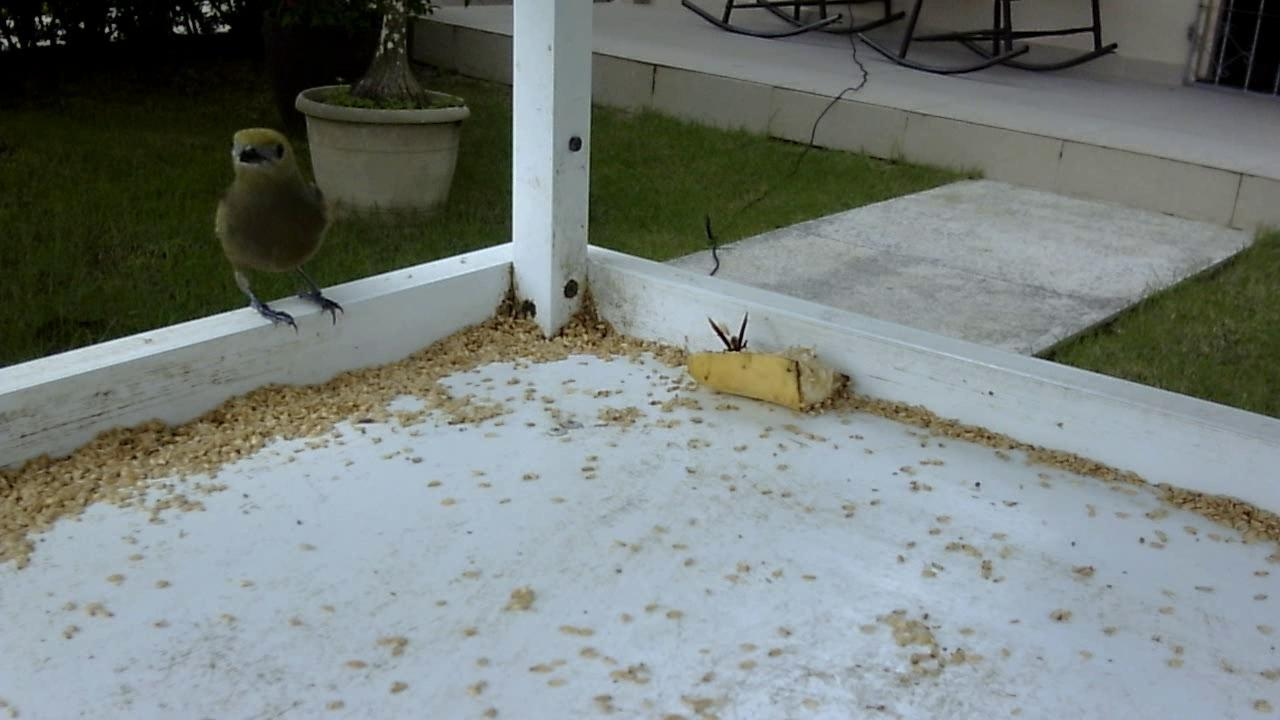sanhaco_do_coqueiro: (209, 124, 346, 338)
